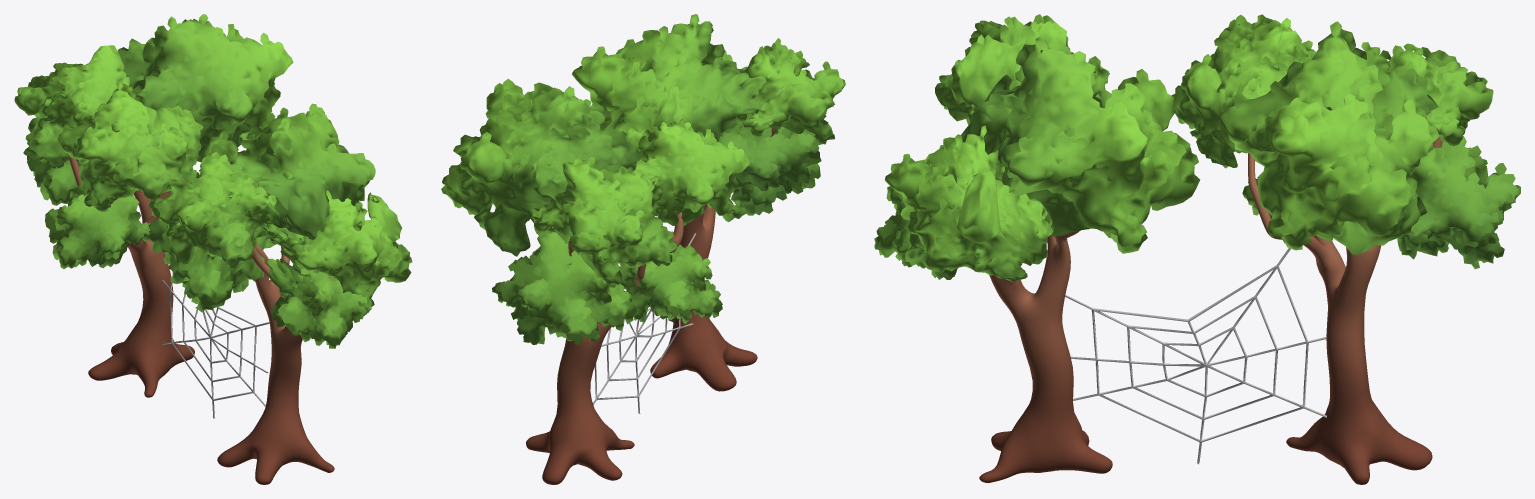
The model's file is tree.002.fbx.
The picture shows the model from 3 angles, left to right: view 1: azimuth 30°, elevation 25°; view 2: azimuth 150°, elevation 25°; view 3: azimuth 270°, elevation 25°; orthographic projection. The views are drawn at different scales.
Visible parts, largest first — view 1: Plane.002, Plane.003, Circle; view 2: Plane.003, Plane.002, Circle; view 3: Plane.003, Plane.002, Circle.
Part boxes in pixels (x1,y1,x2,y2): Plane.002: (148, 103, 412, 484); Plane.003: (14, 14, 293, 397); Circle: (162, 280, 269, 418); Plane.003: (441, 79, 750, 484); Plane.002: (572, 14, 845, 391); Circle: (593, 233, 696, 413); Plane.003: (1171, 14, 1520, 484); Plane.002: (874, 14, 1200, 483); Circle: (1065, 248, 1326, 464).
Bounding box in the file's own units: 337 × 487 × 626.
